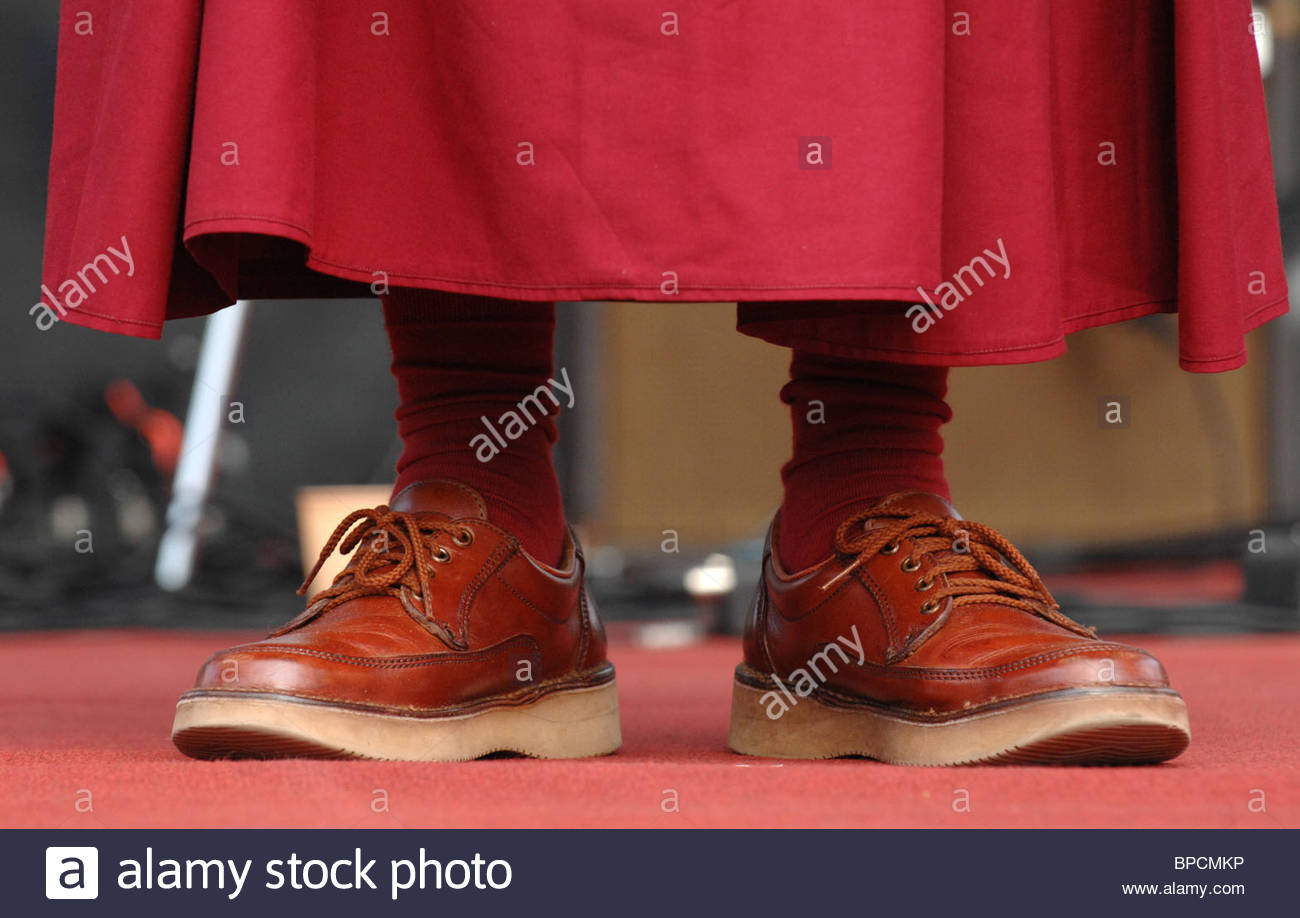shoe: (133, 470, 626, 785), (736, 468, 1207, 784)
